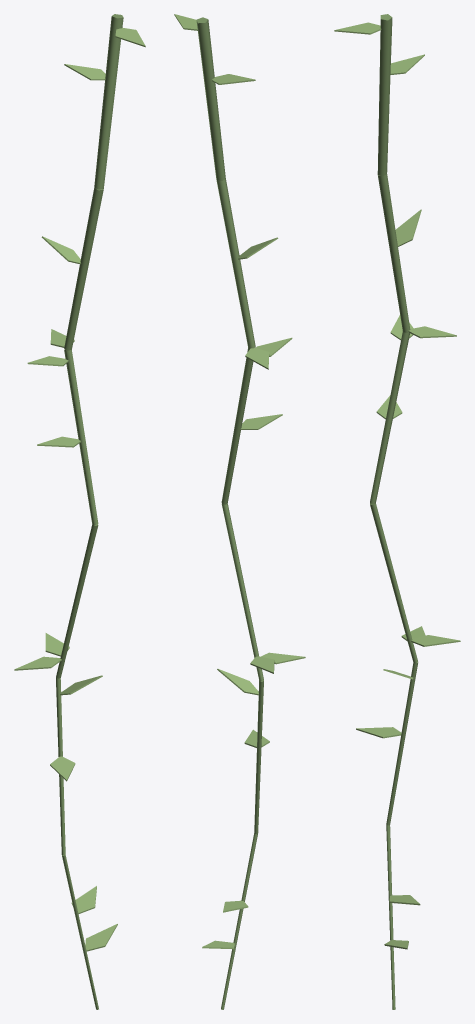
Rendered from vine_a.glb.
3 renders of one model, left to right at view 1: azimuth 30°, elevation 25°; view 2: azimuth 210°, elevation 25°; view 3: azimuth 270°, elevation 25°, orthographic.
Visible parts, largest first — view 1: vine_a; view 2: vine_a; view 3: vine_a.
Boxes of the visible parts, x1,y1,x2,y2 form: vine_a: [14, 14, 145, 1009]; vine_a: [174, 14, 305, 1009]; vine_a: [334, 14, 460, 1009].
Size of the model in its own units: 0.6117 by 6.01 by 0.6856.
